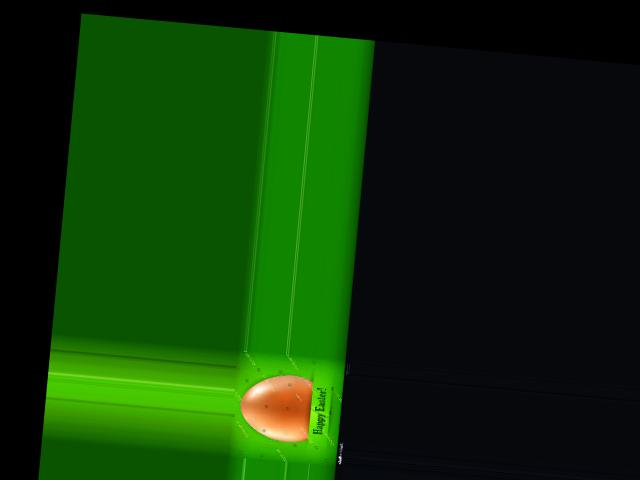egg: (237, 370, 313, 443)
